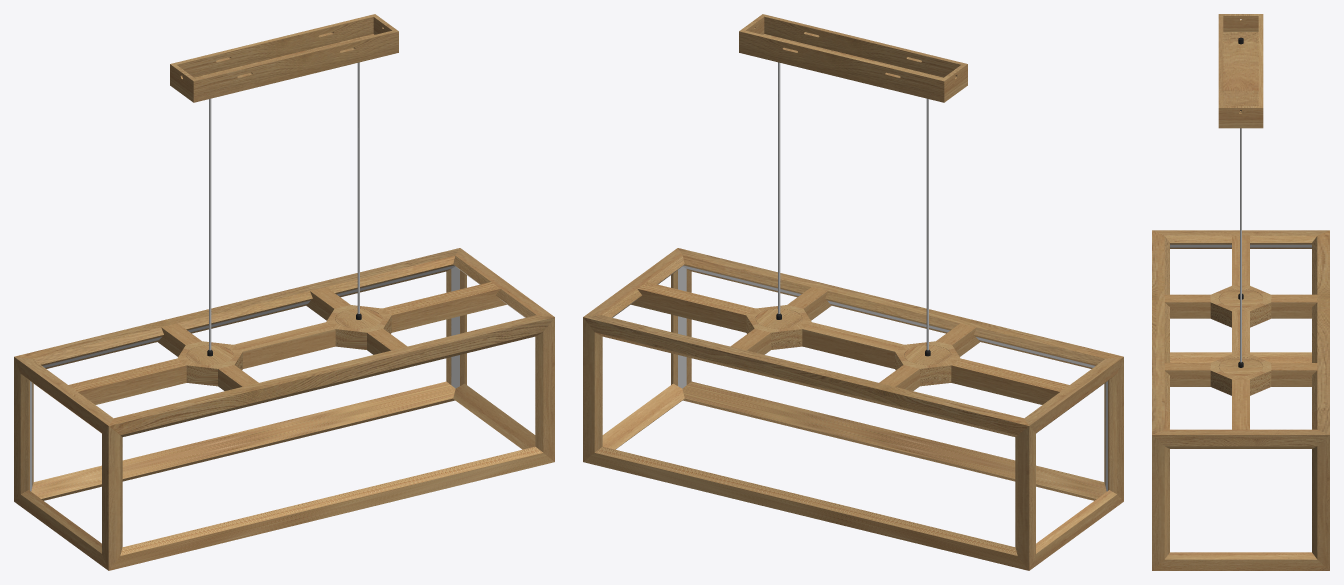
The picture shows the model from 3 angles, left to right: view 1: azimuth 30°, elevation 25°; view 2: azimuth 150°, elevation 25°; view 3: azimuth 270°, elevation 25°; orthographic projection. The views are drawn at different scales.
Parts seen in each view (by area): view 1: Cube.025_Cube.065, PROTO.002_Cube.026, PROTO.009_Cube.032, PROTO.010_Cube.032, PROTO.006_Cube.026, Cube_Cube.041, Cube.003_Cube.041, PROTO.004_Cube.031, Cube.004_Cube.046, PROTO.003_Cube.031, PROTO.008_Cube.031, PROTO.005_Cube.030 (+14 smaller); view 2: Cube.025_Cube.065, PROTO.006_Cube.026, PROTO.010_Cube.032, PROTO.009_Cube.032, PROTO.002_Cube.026, Cube_Cube.041, Cube.003_Cube.041, PROTO.008_Cube.031, Cube.004_Cube.046, PROTO.007_Cube.031, PROTO.004_Cube.031, PROTO.005_Cube.030 (+14 smaller); view 3: Cube.025_Cube.065, PROTO.002_Cube.026, PROTO.006_Cube.026, PROTO.001_Cube.030, PROTO.011_Cube.040, PROTO.005_Cube.030, PROTO.003_Cube.031, PROTO.007_Cube.031, Cube.001_Cube.048, Cube.002_Cube.048, PROTO.012_Cube.040, Cube.007_Cube.047 (+10 smaller).
Part boxes in pixels (x1=…): Cube.025_Cube.065: x1=170, y1=14, x2=398, y2=102; PROTO.002_Cube.026: x1=109, y1=315, x2=554, y2=437; PROTO.009_Cube.032: x1=109, y1=446, x2=554, y2=570; PROTO.010_Cube.032: x1=31, y1=381, x2=455, y2=500; PROTO.006_Cube.026: x1=15, y1=248, x2=459, y2=368; Cube_Cube.041: x1=382, y1=282, x2=506, y2=332; Cube.003_Cube.041: x1=68, y1=358, x2=186, y2=404; PROTO.004_Cube.031: x1=102, y1=426, x2=122, y2=570; Cube.004_Cube.046: x1=234, y1=322, x2=335, y2=368; PROTO.003_Cube.031: x1=535, y1=317, x2=554, y2=461; PROTO.008_Cube.031: x1=14, y1=357, x2=33, y2=500; PROTO.005_Cube.030: x1=14, y1=356, x2=113, y2=433; Cube.025_Cube.065: x1=739, y1=14, x2=967, y2=102; PROTO.006_Cube.026: x1=583, y1=315, x2=1028, y2=437; PROTO.010_Cube.032: x1=583, y1=446, x2=1028, y2=570; PROTO.009_Cube.032: x1=682, y1=381, x2=1106, y2=500; PROTO.002_Cube.026: x1=678, y1=248, x2=1122, y2=368; Cube_Cube.041: x1=631, y1=282, x2=755, y2=332; Cube.003_Cube.041: x1=951, y1=358, x2=1069, y2=404; PROTO.008_Cube.031: x1=1015, y1=426, x2=1035, y2=570; Cube.004_Cube.046: x1=802, y1=322, x2=903, y2=368; PROTO.007_Cube.031: x1=583, y1=317, x2=602, y2=461; PROTO.004_Cube.031: x1=1104, y1=357, x2=1123, y2=500; PROTO.005_Cube.030: x1=1024, y1=356, x2=1123, y2=433; Cube.025_Cube.065: x1=1218, y1=14, x2=1263, y2=128; PROTO.002_Cube.026: x1=1152, y1=230, x2=1169, y2=434; PROTO.006_Cube.026: x1=1312, y1=230, x2=1329, y2=434; PROTO.001_Cube.030: x1=1152, y1=429, x2=1329, y2=448; PROTO.011_Cube.040: x1=1152, y1=552, x2=1329, y2=570; PROTO.005_Cube.030: x1=1152, y1=230, x2=1329, y2=248; PROTO.003_Cube.031: x1=1152, y1=435, x2=1169, y2=570; PROTO.007_Cube.031: x1=1312, y1=435, x2=1329, y2=570; Cube.001_Cube.048: x1=1210, y1=285, x2=1271, y2=327; Cube.002_Cube.048: x1=1210, y1=354, x2=1271, y2=395; PROTO.012_Cube.040: x1=1170, y1=352, x2=1311, y2=362; Cube.007_Cube.047: x1=1271, y1=294, x2=1317, y2=318.
Bounding box in the file's own units: 0.87 × 0.8089 × 0.32.
